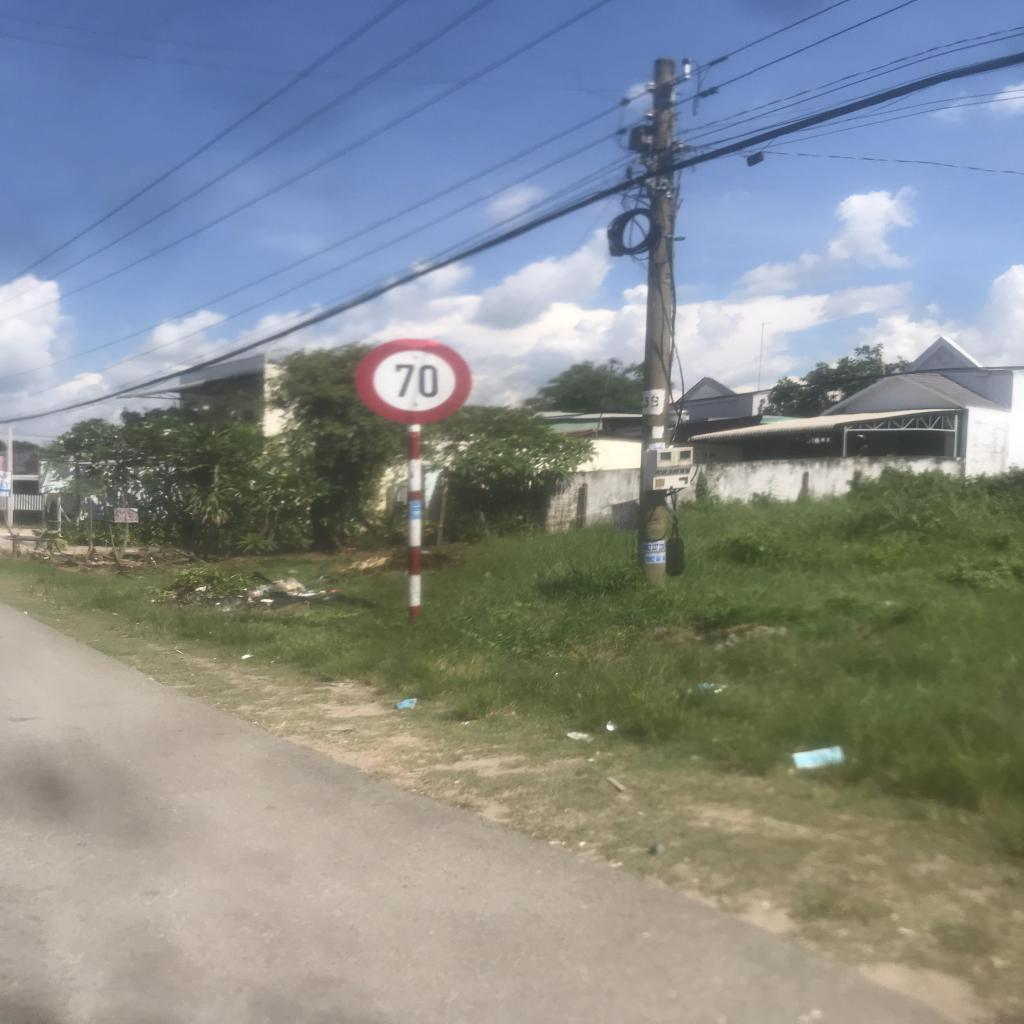khac: (353, 338, 472, 421)
